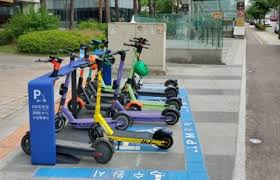kick_body: (115, 131, 152, 142), (127, 112, 163, 121), (77, 118, 110, 124), (137, 101, 165, 108), (86, 103, 114, 108)
kick_handler: (123, 43, 151, 54)
kick_neck: (116, 61, 123, 92)
kick_wheel: (94, 138, 114, 164), (155, 129, 172, 148), (162, 108, 179, 125), (114, 114, 130, 130), (88, 126, 102, 140), (55, 115, 65, 133), (166, 87, 178, 98), (167, 79, 178, 85)
